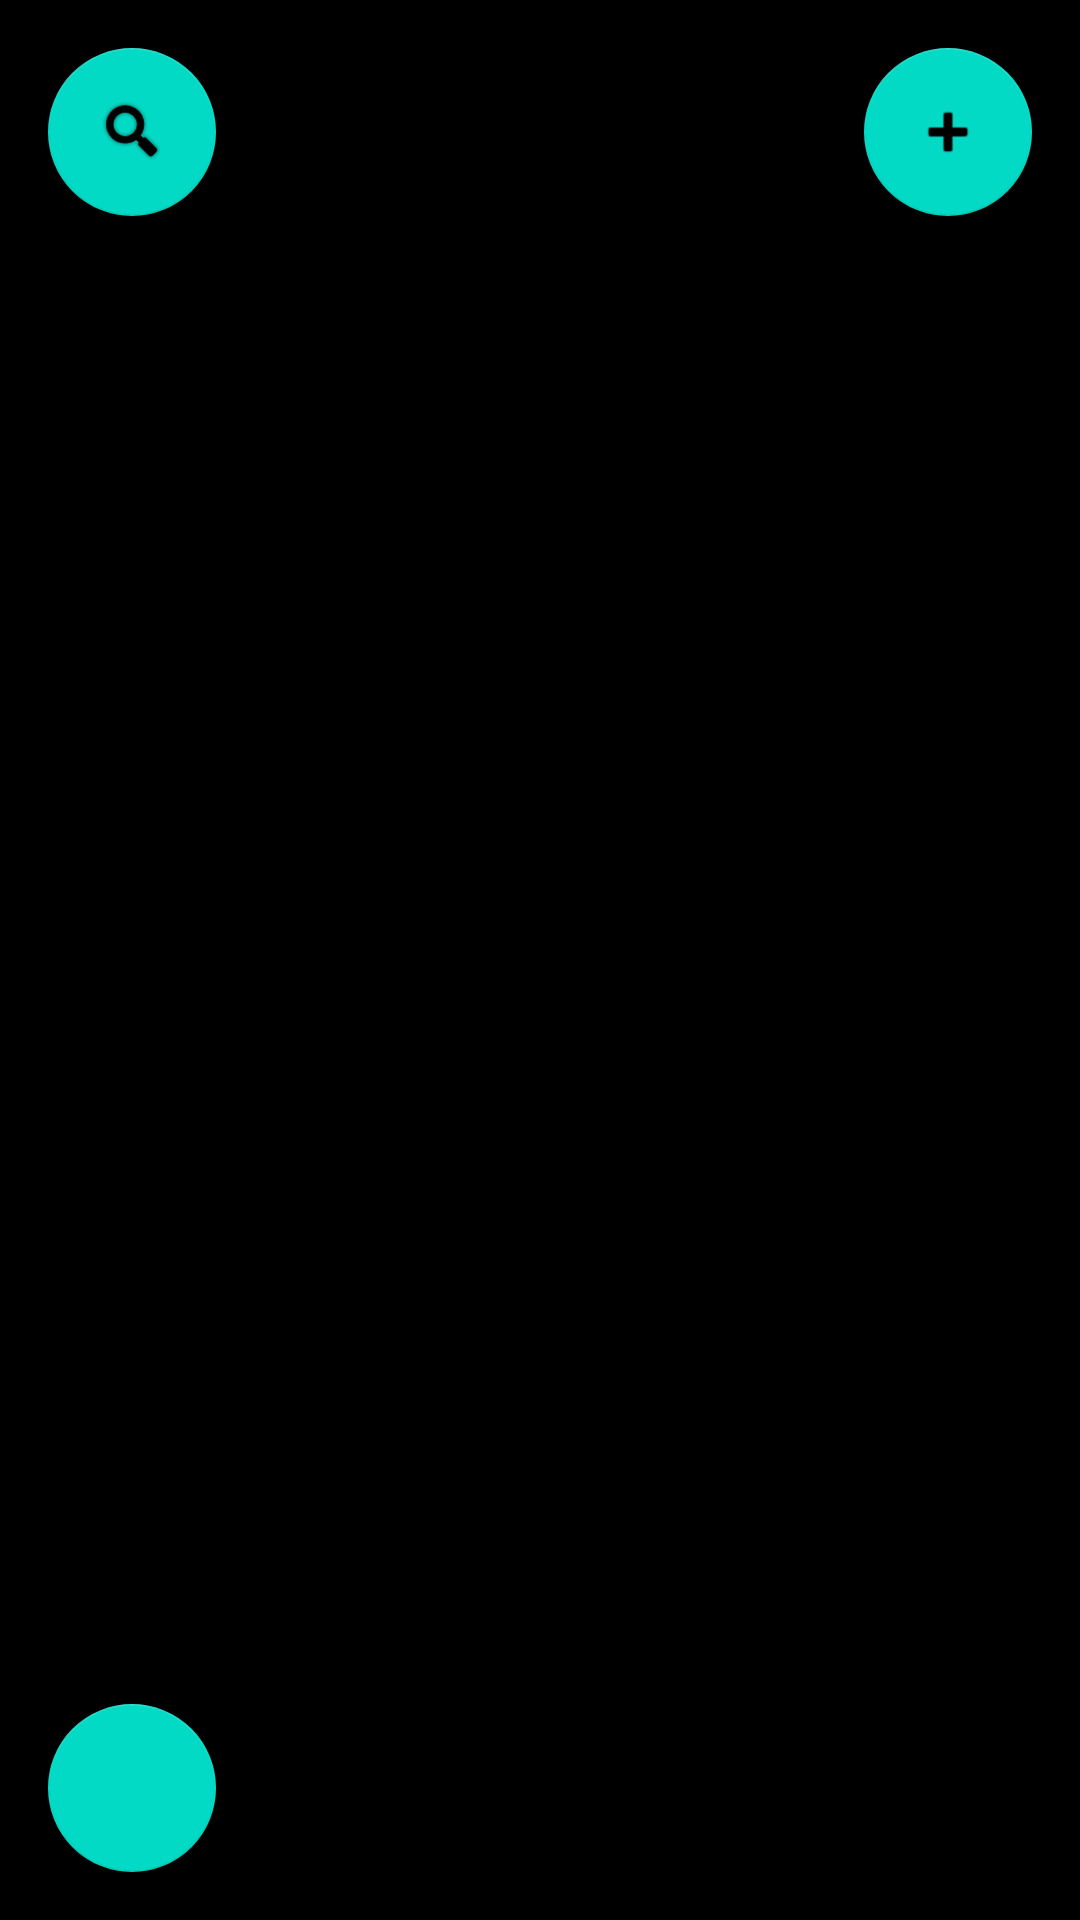

Icon bounding boxes for this 1080×1920 phone screenshot, format (x1, y1, x2, y2):
add: (864, 48, 1032, 216)
search category: (48, 48, 216, 216)
